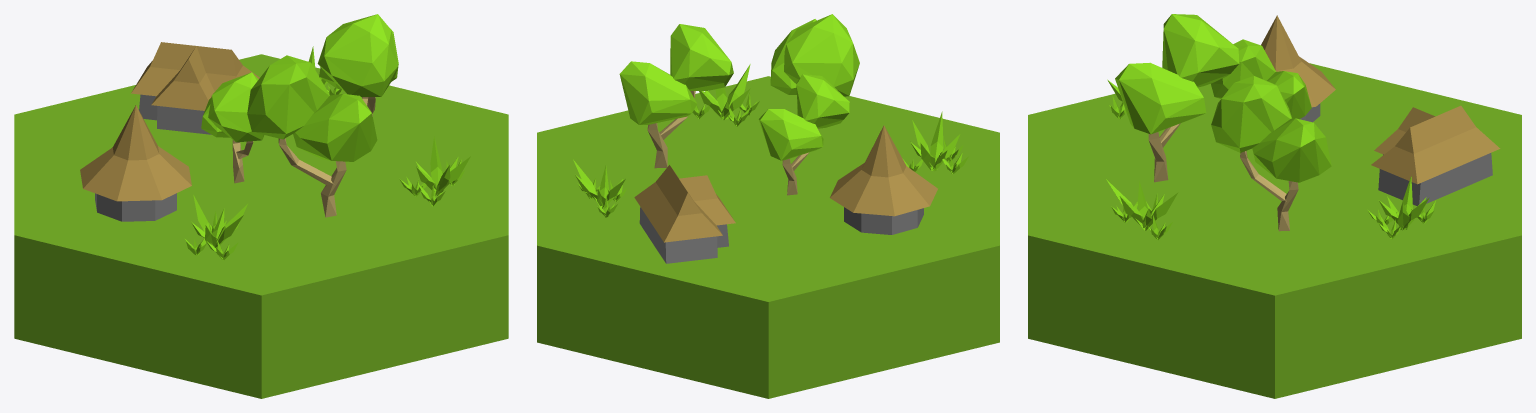
Rendered from Casas_Selva_6.fbx.
3 views of the same model, side by side, from view 1: azimuth 30°, elevation 25°; view 2: azimuth 150°, elevation 25°; view 3: azimuth 270°, elevation 25° (orthographic). The views are drawn at different scales.
Parts seen in each view (by area): view 1: Casas_Selva_6; view 2: Casas_Selva_6; view 3: Casas_Selva_6.
Part boxes in pixels (x1,y1,x2,y2): Casas_Selva_6: [14, 14, 508, 398]; Casas_Selva_6: [537, 14, 999, 398]; Casas_Selva_6: [1028, 14, 1521, 398].
Size of the model in its own units: 200 by 99.25 by 173.
